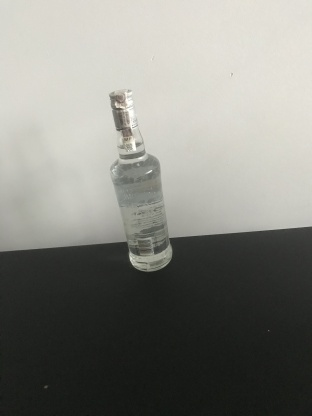nakretka: (107, 88, 139, 131)
